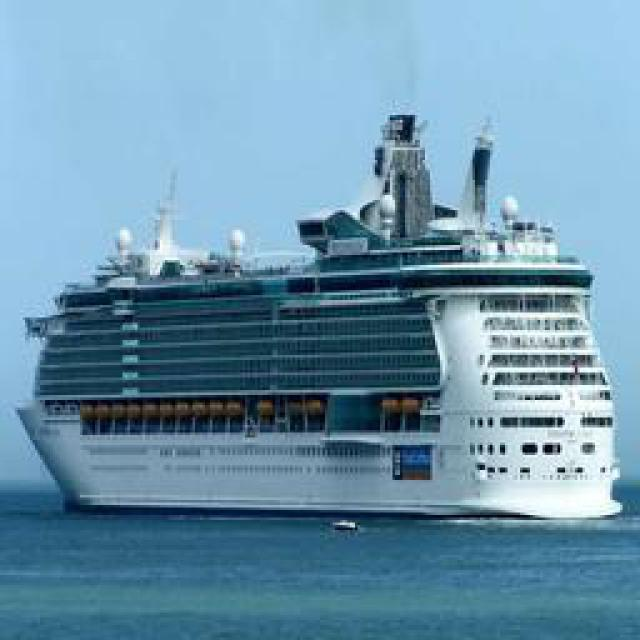Ship: (17, 106, 627, 524)
